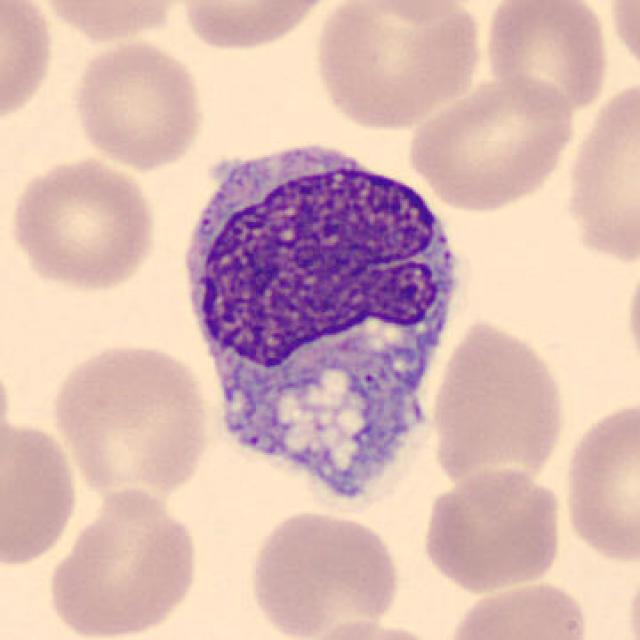Monocyte: (170, 124, 477, 516)
RBC: (46, 339, 215, 506), (426, 314, 570, 497), (403, 70, 580, 214), (42, 485, 202, 640), (308, 0, 487, 132), (5, 152, 160, 296), (244, 506, 404, 638), (68, 35, 210, 173), (418, 464, 567, 594), (560, 72, 638, 274), (480, 0, 613, 118), (558, 393, 640, 568), (0, 412, 82, 570), (441, 576, 592, 640), (176, 0, 336, 53), (0, 0, 58, 130), (32, 0, 188, 44), (292, 615, 452, 640), (350, 0, 494, 23), (602, 0, 640, 84), (620, 247, 640, 391)
